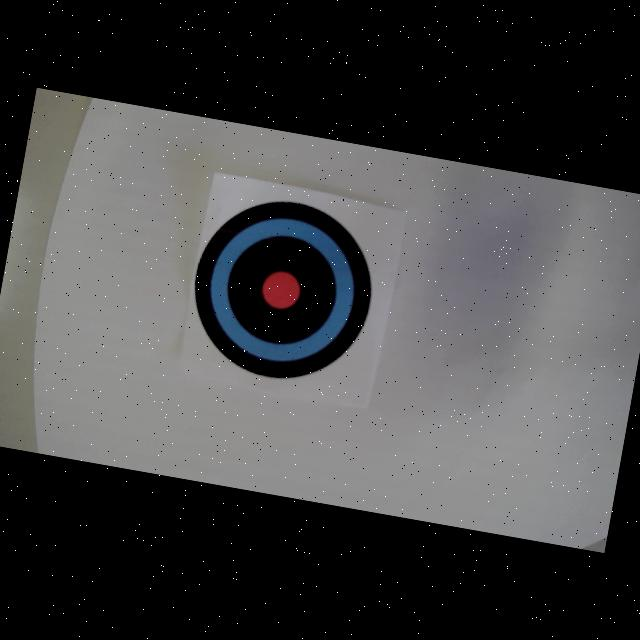COGNITIVE: (180, 185, 386, 392)
